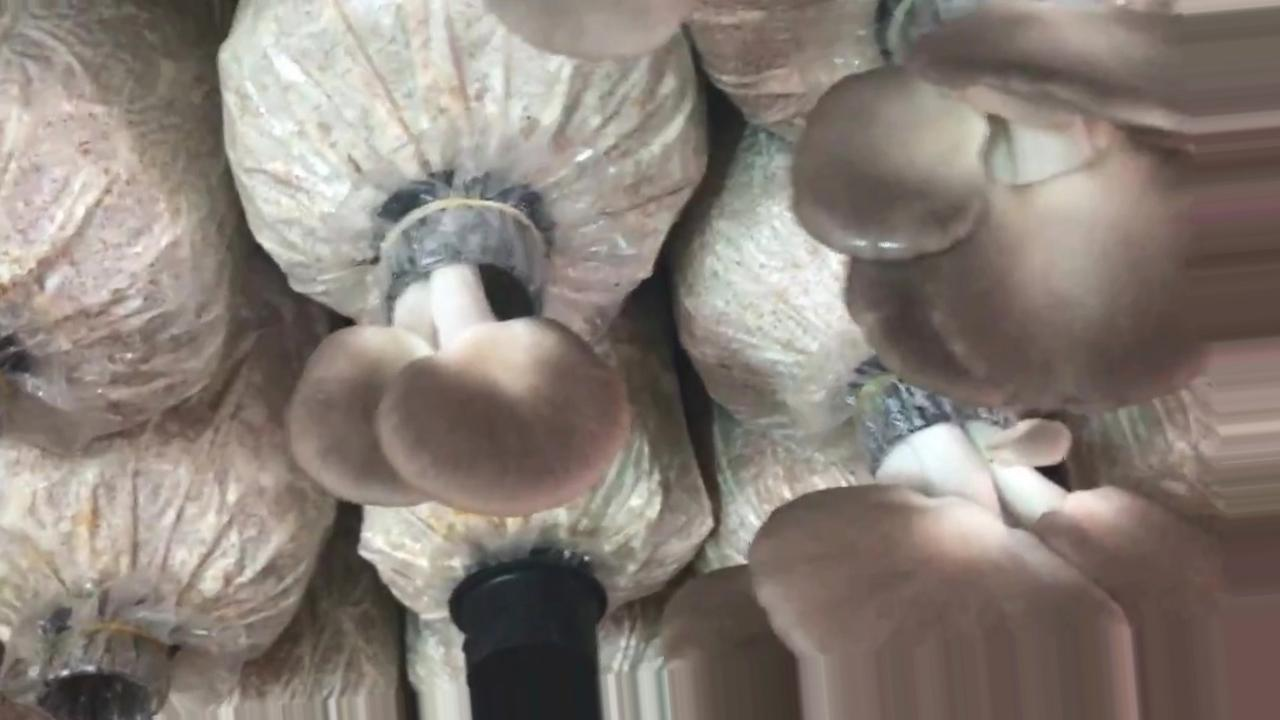nam: (660, 355, 1280, 718), (800, 9, 1280, 412), (289, 188, 631, 514)
